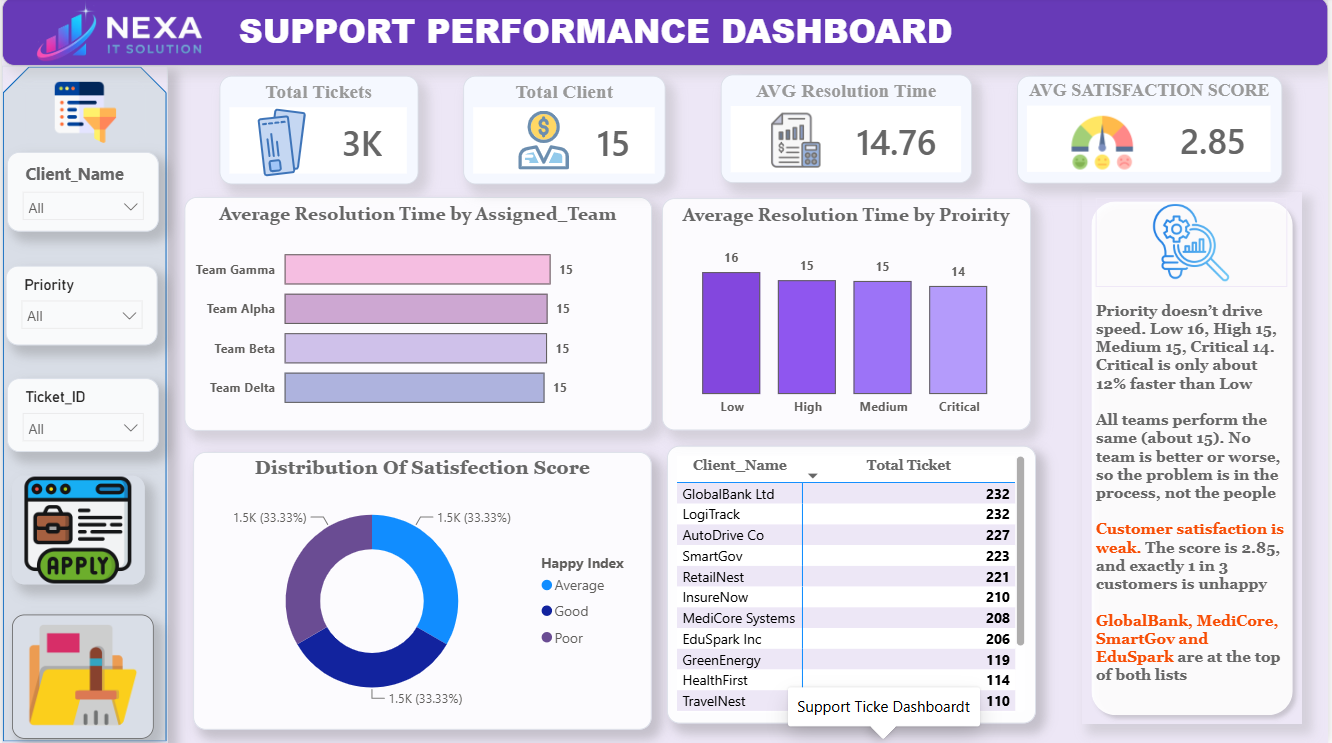

This screenshot's page, from the dashboard's own definition file:
{"tool":"powerbi","page":{"name":" Support Ticke Dashboardt","canvas":[1280,720],"ordinal":6},"visuals":[{"type":"shape","box":[0,65.9,160,653.6],"z":0},{"type":"textbox","box":[0,0,1280,66.4],"z":1000},{"type":"image","box":[4.8,0,219.6,66.4],"z":2000},{"type":"cardVisual","title":"Total Tickets","fields":{"Data":["Support_Tickets.Total Tickets"]},"box":[209.9,76,191.8,105],"z":3000},{"type":"cardVisual","title":"AVG Resolution Time","fields":{"Data":["Support_Tickets.Average Resolution Time"]},"box":[693.7,74.8,242.5,105],"z":4000},{"type":"image","box":[197.9,107.4,144.8,67.6],"z":5000},{"type":"image","box":[693.7,109.8,144.8,56.7],"z":6000},{"type":"clusteredBarChart","title":"Average Resolution Time by Assigned_Team","fields":{"Category":["Support_Tickets.Assigned_Team"],"Y":["Support_Tickets.Average Resolution Time"]},"box":[176.1,193,451.2,225.6],"z":7000},{"type":"image","box":[445.2,109.8,155.6,49.5],"z":8000},{"type":"donutChart","title":"Distribution Of Satisfection Score","fields":{"Category":["Support_Tickets.Happy Index"],"Y":["Count(Employees.Employee_ID)"]},"box":[184.6,439.1,442.8,267.8],"z":9000},{"type":"slicer","fields":{"Values":["Projects.Client_Name"]},"box":[5.4,149.3,146.6,76.7],"z":10000},{"type":"slicer","fields":{"Values":["Support_Tickets.Priority"]},"box":[4,259.6,146.6,76.7],"z":11000},{"type":"slicer","fields":{"Values":["Support_Tickets.Ticket_ID"]},"box":[5.4,368.5,146.6,71.3],"z":12000},{"type":"image","box":[9.4,462.6,127.8,104.9],"z":13000},{"type":"cardVisual","title":"AVG SATISFACTION SCORE","fields":{"Data":["Support_Tickets.AVG Satisfaction Score"]},"box":[979.6,76,255.8,103.8],"z":14000},{"type":"image","box":[9.4,595.8,137.2,119.7],"z":15000},{"type":"image","box":[963.9,109.8,195.4,61.5],"z":16000},{"type":"pivotTable","title":"Distribution Of Satisfection Score","fields":{"Rows":["Support_Tickets.Client_Name"],"Values":["Count(Support_Tickets.Ticket_ID)"]},"box":[641.8,433.1,355.9,267.8],"z":17000},{"type":"cardVisual","title":"Total Client","fields":{"Data":["Support_Tickets.Total ticket Client"]},"box":[445.2,76,195.4,105],"z":18000},{"type":"image","box":[22.9,80.8,115.8,61.5],"z":19000},{"type":"shape","box":[1042.4,188.2,212.3,513.9],"z":20000},{"type":"image","box":[1055.6,194.2,184.6,85.7],"z":21000},{"type":"image","box":[456,109.8,133.9,56.7],"z":22000},{"type":"textbox","box":[1050.8,288.3,194.2,413.8],"z":23000},{"type":"clusteredColumnChart","title":"Average Resolution Time by Proirity","fields":{"Category":["Support_Tickets.Priority"],"Y":["Support_Tickets.Average Resolution Time"]},"box":[637,194.2,355.9,224.4],"z":24000}]}

Visuals, with their boxes in screenshot pixels (x1, y1, x2, y2), scaled from the page's 1280x720 canvas onto the 1332x743 screenshot:
shape: 0,68,166,742
textbox: 0,0,1331,69
image: 5,0,234,69
"Total Tickets" cardVisual: 218,78,418,187
"AVG Resolution Time" cardVisual: 722,77,974,186
image: 206,111,357,181
image: 722,113,873,172
"Average Resolution Time by Assigned_Team" clusteredBarChart: 183,199,653,432
image: 463,113,625,164
"Distribution Of Satisfection Score" donutChart: 192,453,653,729
slicer - Projects.Client_Name: 6,154,158,233
slicer - Support_Tickets.Priority: 4,268,157,347
slicer - Support_Tickets.Ticket_ID: 6,380,158,454
image: 10,477,143,586
"AVG SATISFACTION SCORE" cardVisual: 1019,78,1286,186
image: 10,615,153,738
image: 1003,113,1206,177
"Distribution Of Satisfection Score" pivotTable: 668,447,1038,723
"Total Client" cardVisual: 463,78,667,187
image: 24,83,144,147
shape: 1085,194,1306,725
image: 1098,200,1291,289
image: 475,113,614,172
textbox: 1093,298,1296,725
"Average Resolution Time by Proirity" clusteredColumnChart: 663,200,1033,432
